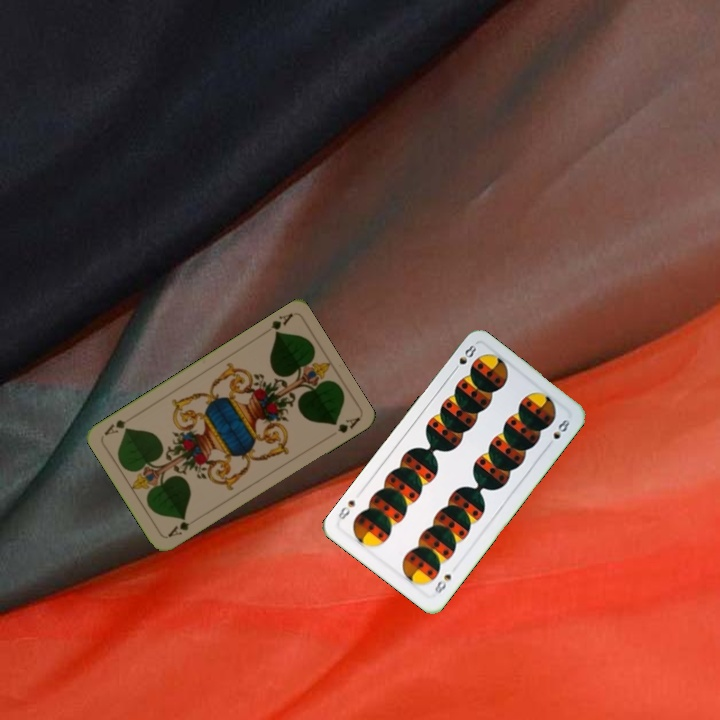GA: (164, 514, 200, 540), (267, 309, 295, 338)
S8: (448, 341, 479, 376), (431, 570, 454, 597)
